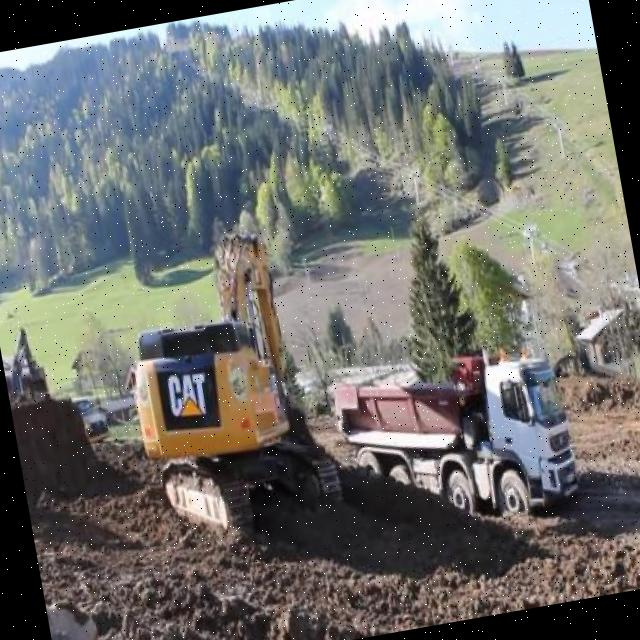Dump Truck: (324, 328, 586, 550)
Excavator: (105, 218, 348, 556)
